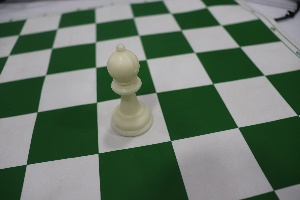white_bishop: (95, 37, 158, 146)
